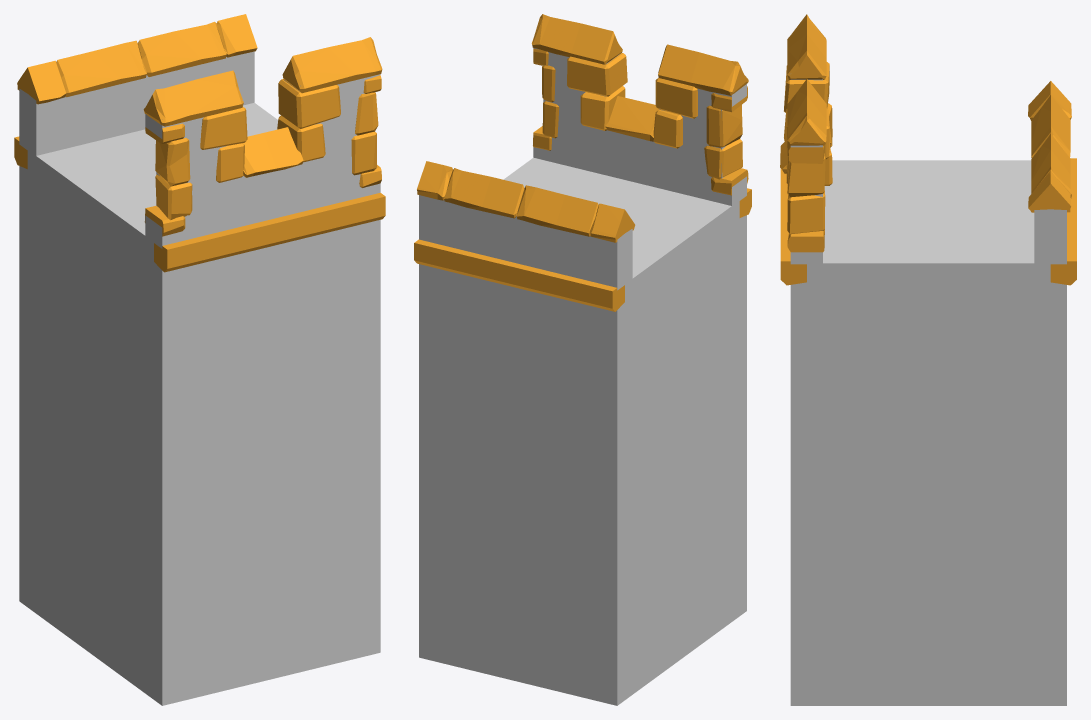
The model's file is SM_Rampart_3x6m_Battlement_Back_A_Fantasy_Base.fbx.
The picture shows the model from 3 angles, left to right: view 1: azimuth 30°, elevation 25°; view 2: azimuth 150°, elevation 25°; view 3: azimuth 270°, elevation 25°; orthographic projection. The views are drawn at different scales.
Visible parts, largest first — view 1: SM_Rampart_3x6m_Battlement_Back_A_Fantasy_Base; view 2: SM_Rampart_3x6m_Battlement_Back_A_Fantasy_Base; view 3: SM_Rampart_3x6m_Battlement_Back_A_Fantasy_Base.
Part boxes in pixels (box(x1,y1,x2,y2)): SM_Rampart_3x6m_Battlement_Back_A_Fantasy_Base: box(14, 14, 385, 705); SM_Rampart_3x6m_Battlement_Back_A_Fantasy_Base: box(414, 14, 751, 705); SM_Rampart_3x6m_Battlement_Back_A_Fantasy_Base: box(780, 14, 1076, 705).
Size of the model in its own units: 3.03 by 8.01 by 3.65.
